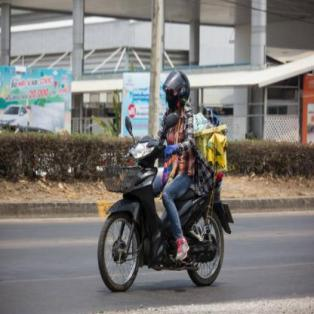Motocicleta: (93, 114, 230, 294)
